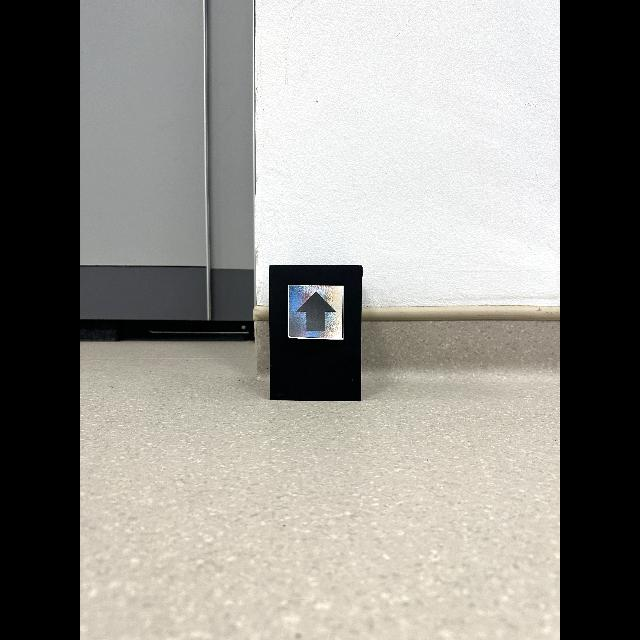UP: (296, 291, 337, 331)
